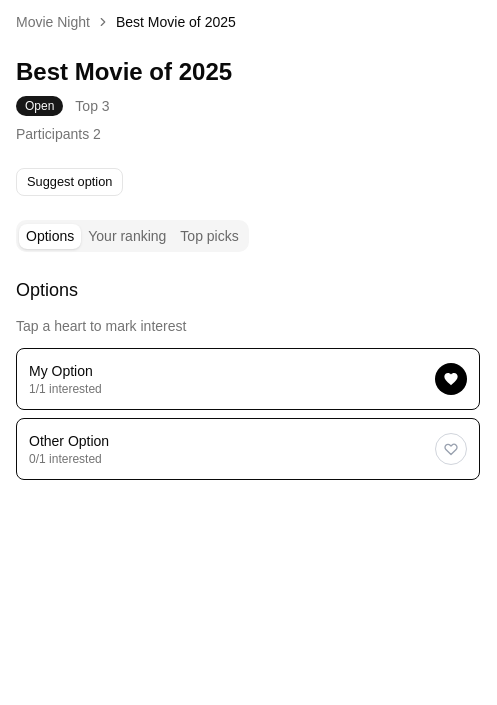
ranking tab owner filtering › shows only the current user's options in the ranking tab
Click the tab "Your ranking".
click(127, 236)  # box [81, 224, 173, 248]
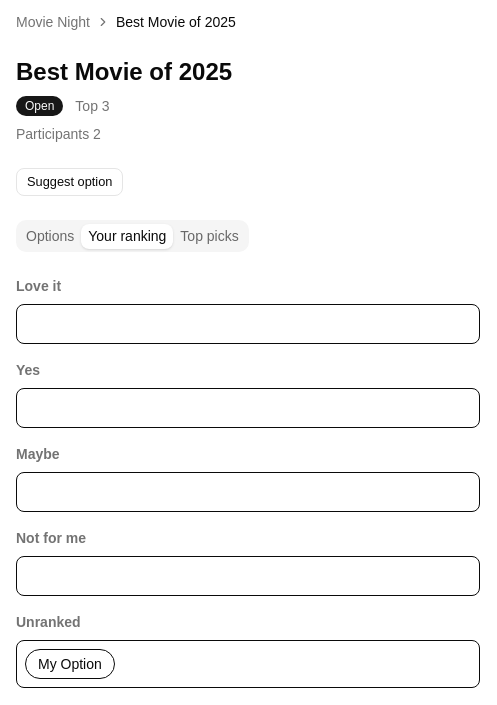
Expected: the button "My Option" is shown, [25, 649, 115, 679]
Now the text "Other Option" is gone
